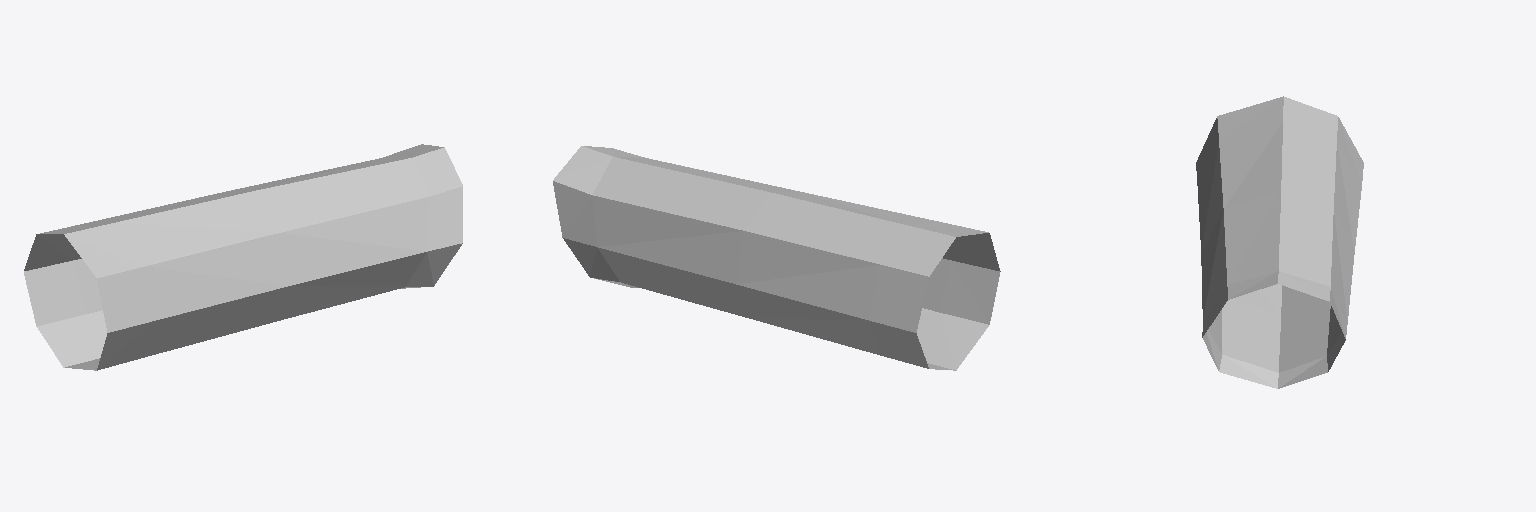
File: up_arms_L.obj
3 renders of one model, left to right at view 1: azimuth 30°, elevation 25°; view 2: azimuth 150°, elevation 25°; view 3: azimuth 270°, elevation 25°, orthographic.
Parts seen in each view (by area): view 1: Meowth; view 2: Meowth; view 3: Meowth.
Boxes of the visible parts, box(x1,y1,x2,y2) form: Meowth: box(24, 144, 462, 370); Meowth: box(553, 146, 1000, 370); Meowth: box(1196, 96, 1363, 388).
Bounding box in the file's own units: 7.86 × 2.63 × 3.